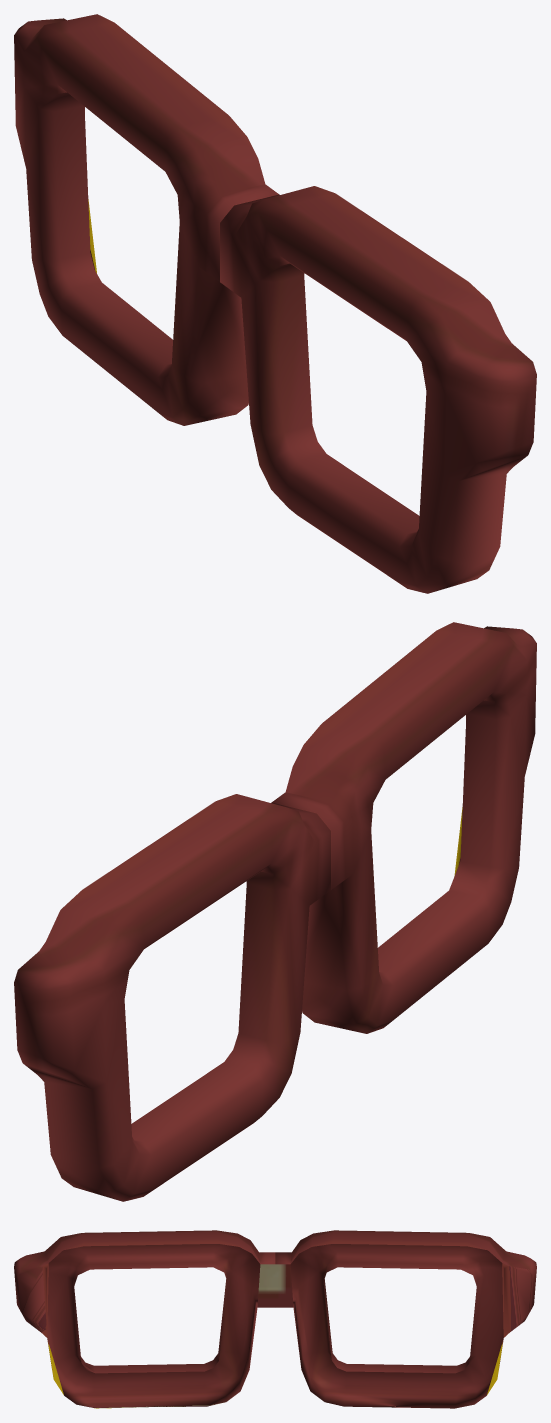
The model's file is UnitIconAccessory.dae.
3 renders of one model, top to bottom at view 1: azimuth 30°, elevation 25°; view 2: azimuth 150°, elevation 25°; view 3: azimuth 270°, elevation 25°, orthographic. The views are drawn at different scales.
Visible parts, largest first — view 1: Body__mBody; view 2: Body__mBody; view 3: Body__mBody.
Boxes of the visible parts, left/top/right/bottom form: Body__mBody: left=14, top=14, right=536, bottom=593; Body__mBody: left=14, top=622, right=536, bottom=1201; Body__mBody: left=14, top=1230, right=536, bottom=1408.
Bounding box in the file's own units: 0.4516 × 4.8 × 1.65.
